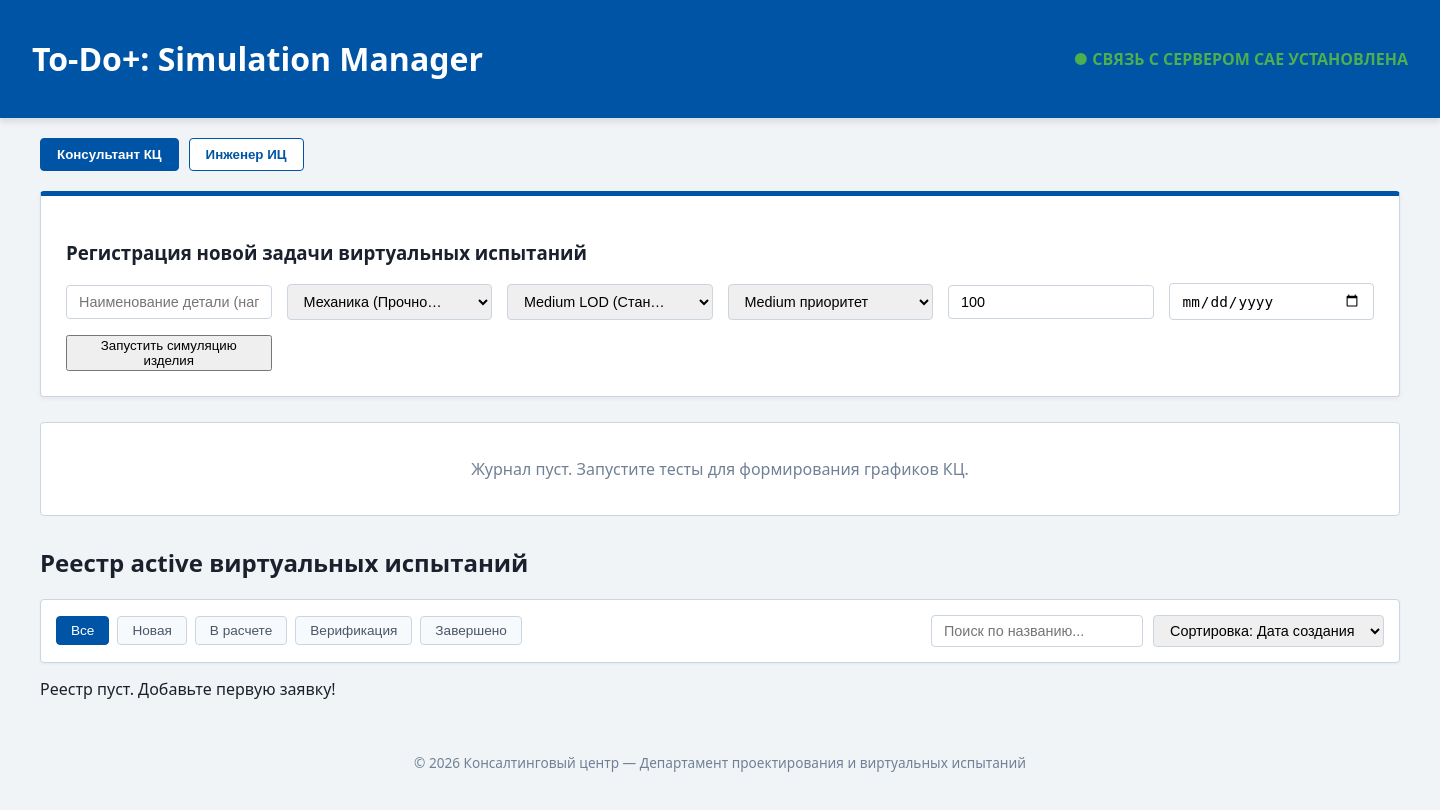
it: Интеграционные тесты графического интерфейса SPA "To-Do+" › Блокирует отправку расчетной заявки и выводит ошибку номенклатуры при вводе невалидной абракадабры
// Находим текстовое поле и вводим абракадабру
Step 1. Type "абракадабра123 случайный набор букв" into the field with placeholder "Наименование детали (например: Вал шестерня)..." → [169, 302], box [66,284,272,318]
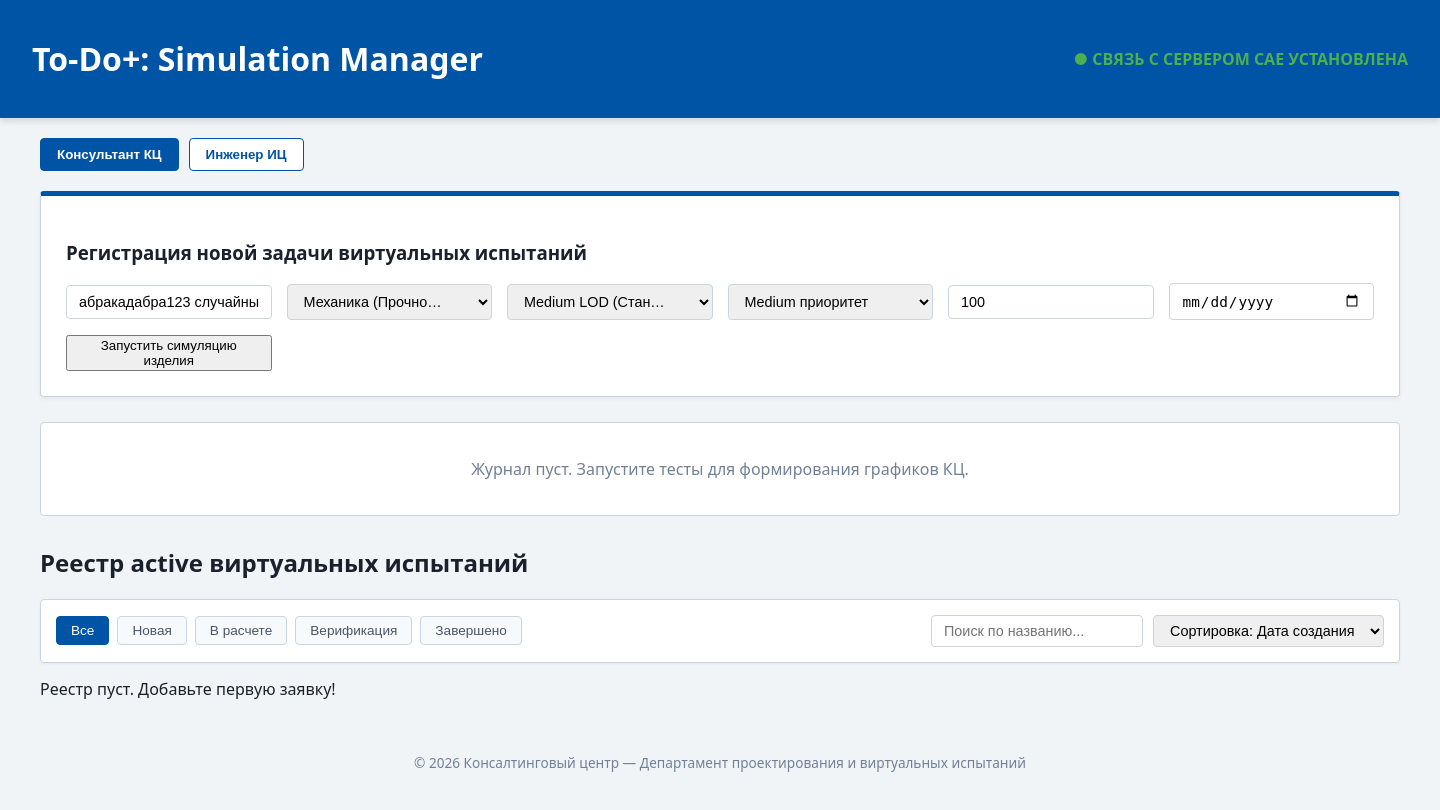
Step 2. Type "2026-12-31" into the date field → [1271, 302], box [1168,283,1374,320]
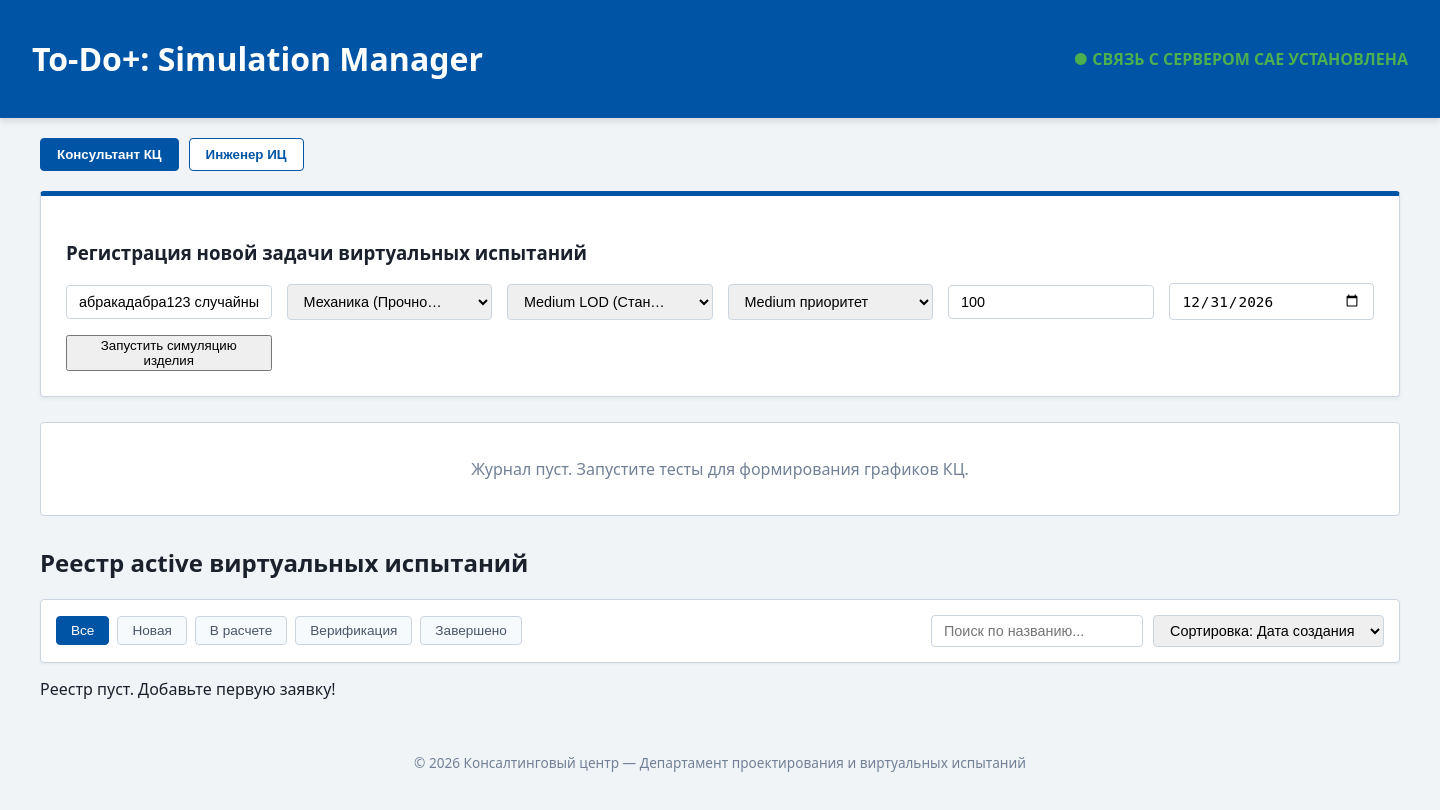
// Находим кнопку отправки формы
Step 3. Click the button "Запустить симуляцию изделия" → [169, 353], box [66,335,272,371]
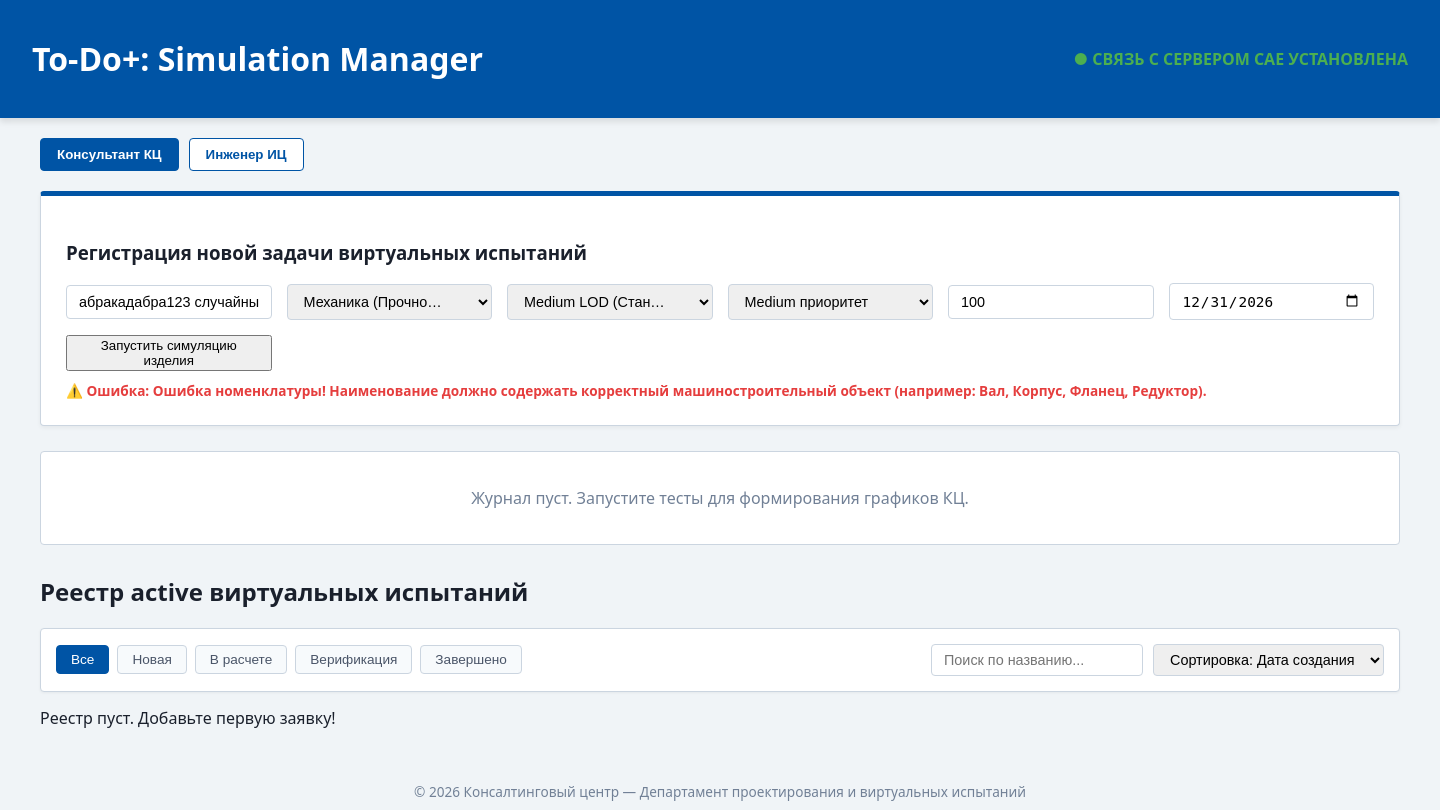
Expected: the text "Ошибка номенклатуры!" is shown, [153,381,1207,400]
